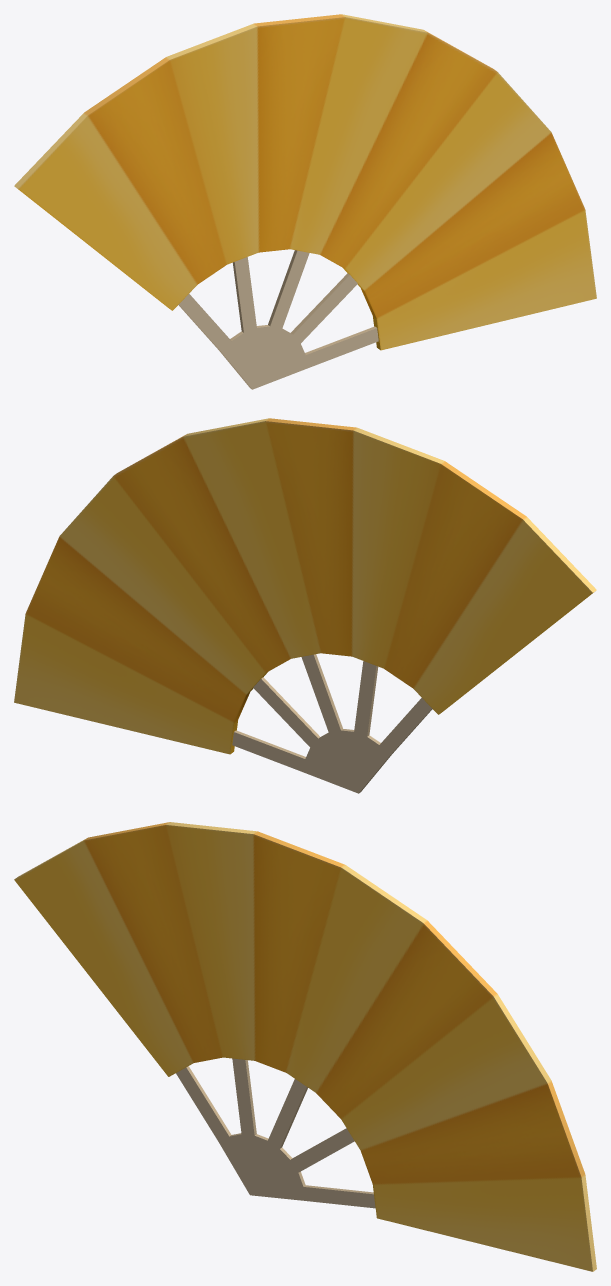
The model's file is ENV2010043.fbx.
3 views of the same model, one above another, from view 1: azimuth 30°, elevation 25°; view 2: azimuth 150°, elevation 25°; view 3: azimuth 330°, elevation 25° (orthographic).
Parts seen in each view (by area): view 1: smENV2010043; view 2: smENV2010043; view 3: smENV2010043.
Part boxes in pixels (x1,y1,x2,y2): smENV2010043: (14, 14, 596, 389); smENV2010043: (14, 418, 596, 793); smENV2010043: (14, 822, 596, 1271).
Size of the model in its own units: 23.93 by 14.32 by 0.2803.
Materials: 1 (1 with a texture image).
